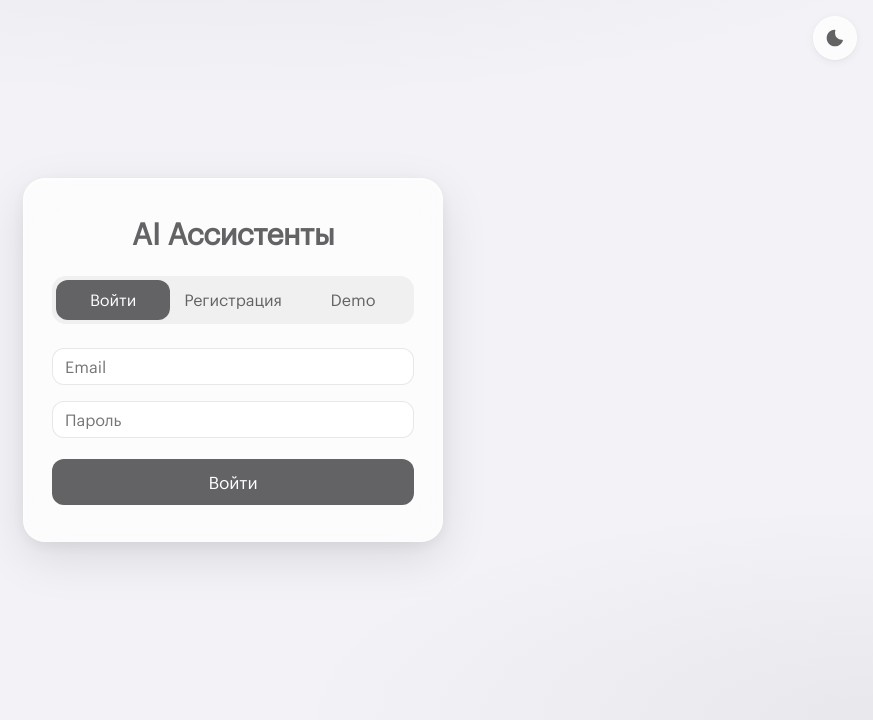
Login — LoginForm › показывает ошибку при некорректном email
Type "notanemail" into the field with placeholder "Email". click: (233, 366)
box: [52,348,414,384]
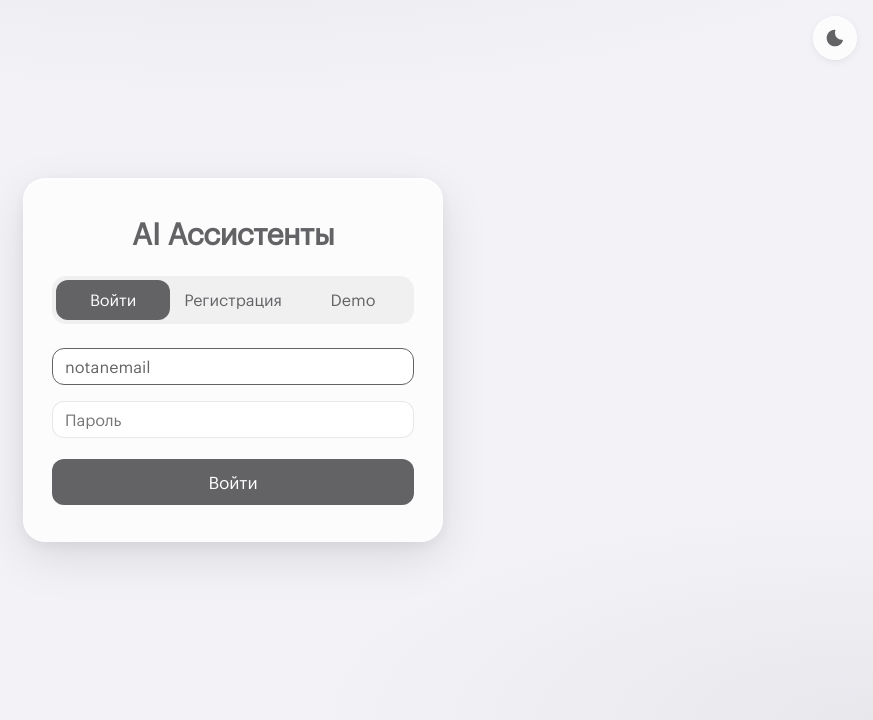
Click the button "Войти". click: (233, 482)
box: [52,459,414,505]
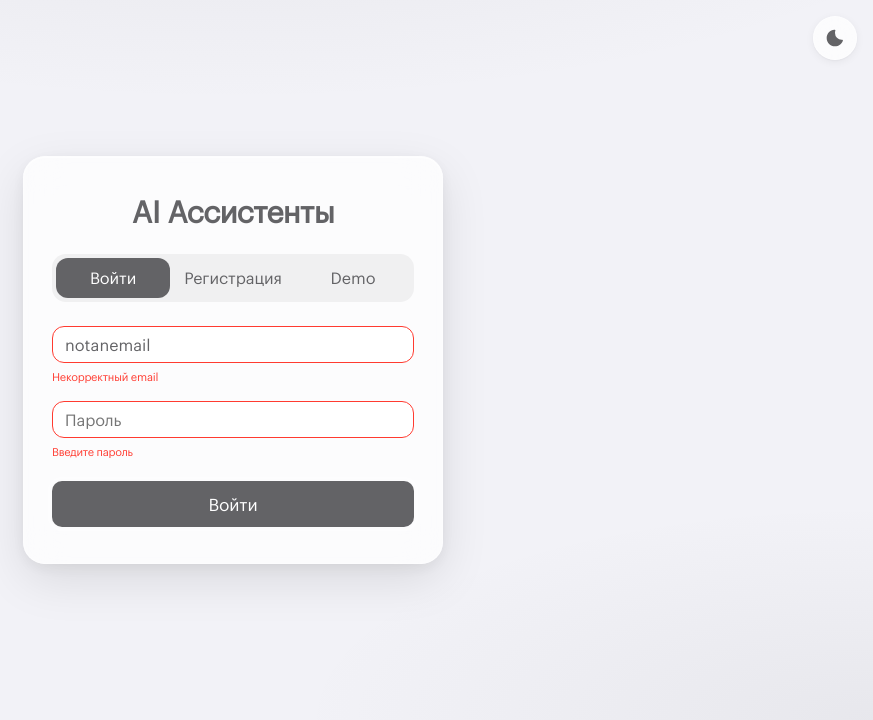
Result: the text "Некорректный email" is shown at [52,370,158,383]
